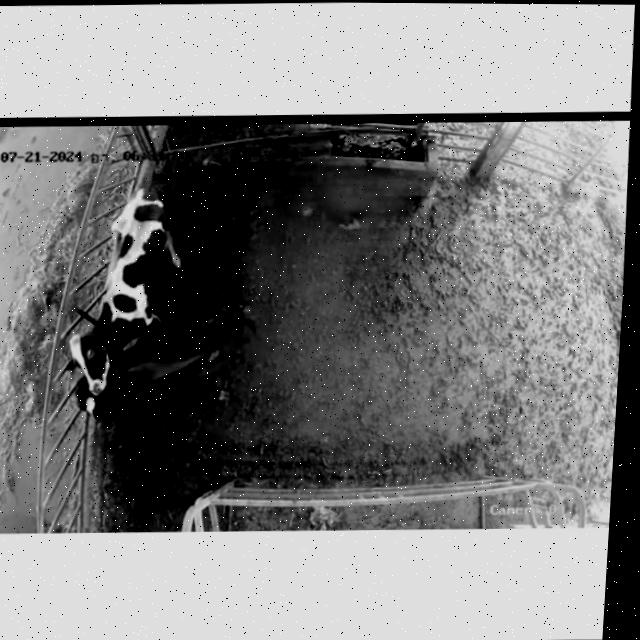propping: (54, 318, 149, 417)
